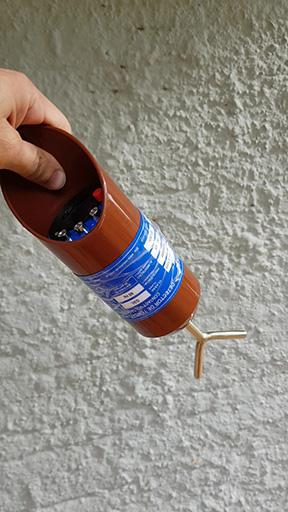Detector_Tensao_Contato: (1, 124, 245, 379)
